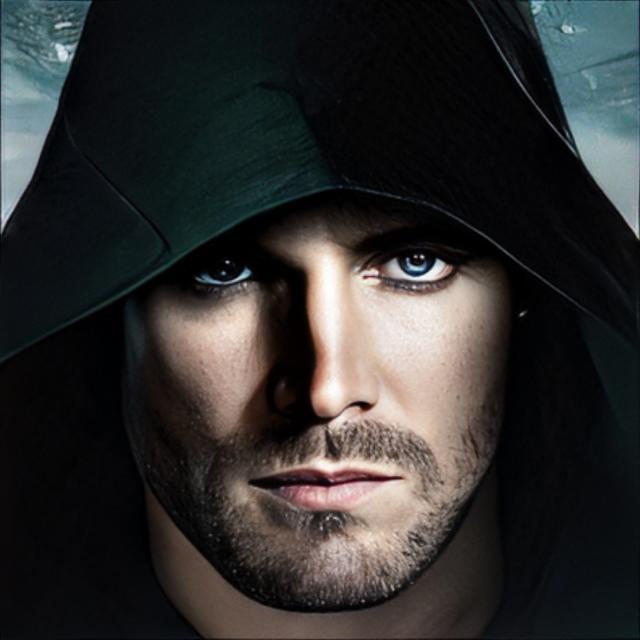neutral: (119, 180, 512, 614)
